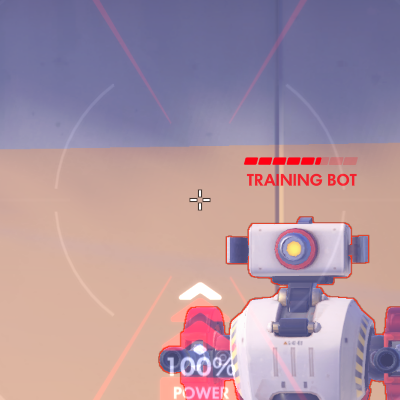hpbar: (244, 157, 359, 165)
